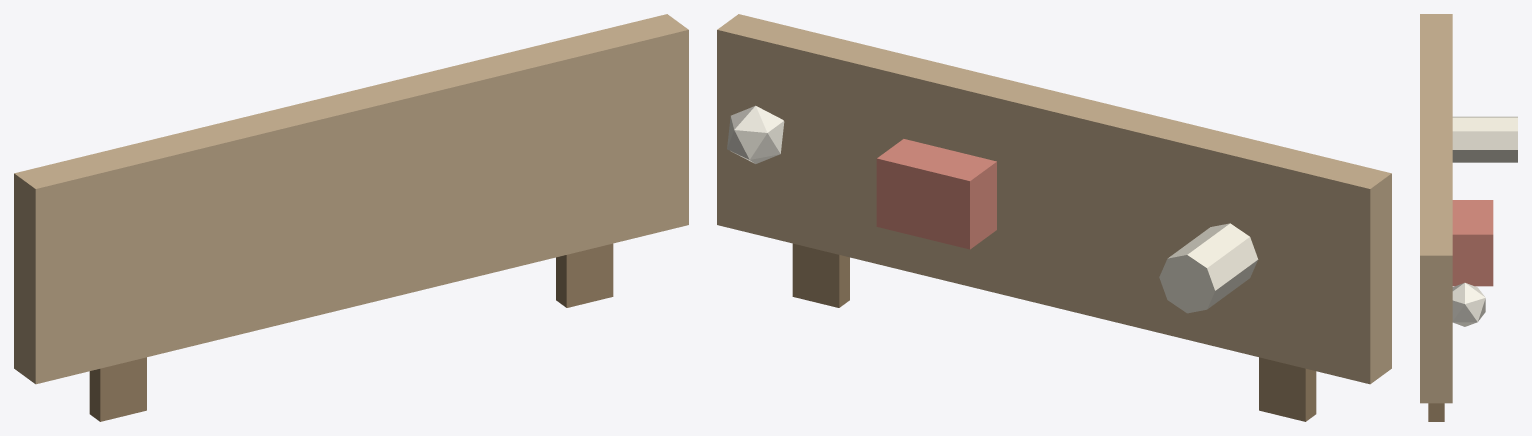
File: 18-Casas_decor_repisa_pared.glb
3 renders of one model, left to right at view 1: azimuth 30°, elevation 25°; view 2: azimuth 150°, elevation 25°; view 3: azimuth 270°, elevation 25°, orthographic. The views are drawn at different scales.
Parts seen in each view (by area): view 1: SM_Repisa_Tabla, SM_Repisa_Soporte.001, SM_Repisa_Soporte; view 2: SM_Repisa_Tabla, SM_Repisa_Libro, SM_Repisa_Vela, SM_Repisa_Soporte.001, SM_Repisa_Soporte, SM_Repisa_Concha; view 3: SM_Repisa_Tabla, SM_Repisa_Libro, SM_Repisa_Vela, SM_Repisa_Concha, SM_Repisa_Soporte.001.
Boxes of the visible parts, bbox=[...] form: SM_Repisa_Tabla: bbox=[14, 14, 688, 384]; SM_Repisa_Soporte.001: bbox=[556, 243, 613, 307]; SM_Repisa_Soporte: bbox=[89, 357, 146, 421]; SM_Repisa_Tabla: bbox=[717, 14, 1391, 384]; SM_Repisa_Libro: bbox=[876, 139, 996, 249]; SM_Repisa_Vela: bbox=[1159, 223, 1258, 313]; SM_Repisa_Soporte.001: bbox=[792, 243, 849, 307]; SM_Repisa_Soporte: bbox=[1259, 357, 1316, 421]; SM_Repisa_Concha: bbox=[727, 105, 784, 163]; SM_Repisa_Tabla: bbox=[1420, 14, 1452, 403]; SM_Repisa_Libro: bbox=[1452, 200, 1493, 286]; SM_Repisa_Vela: bbox=[1452, 116, 1517, 162]; SM_Repisa_Concha: bbox=[1452, 282, 1485, 326]; SM_Repisa_Soporte.001: bbox=[1428, 403, 1444, 421].
Bounding box in the file's own units: 0.7 × 0.26 × 0.12.
